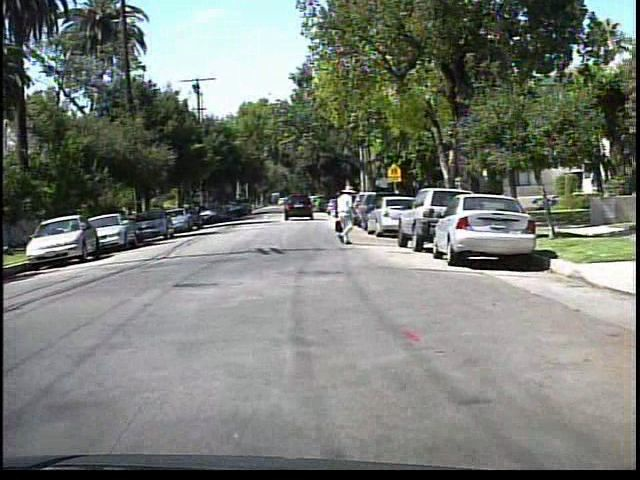person: (331, 184, 363, 245)
